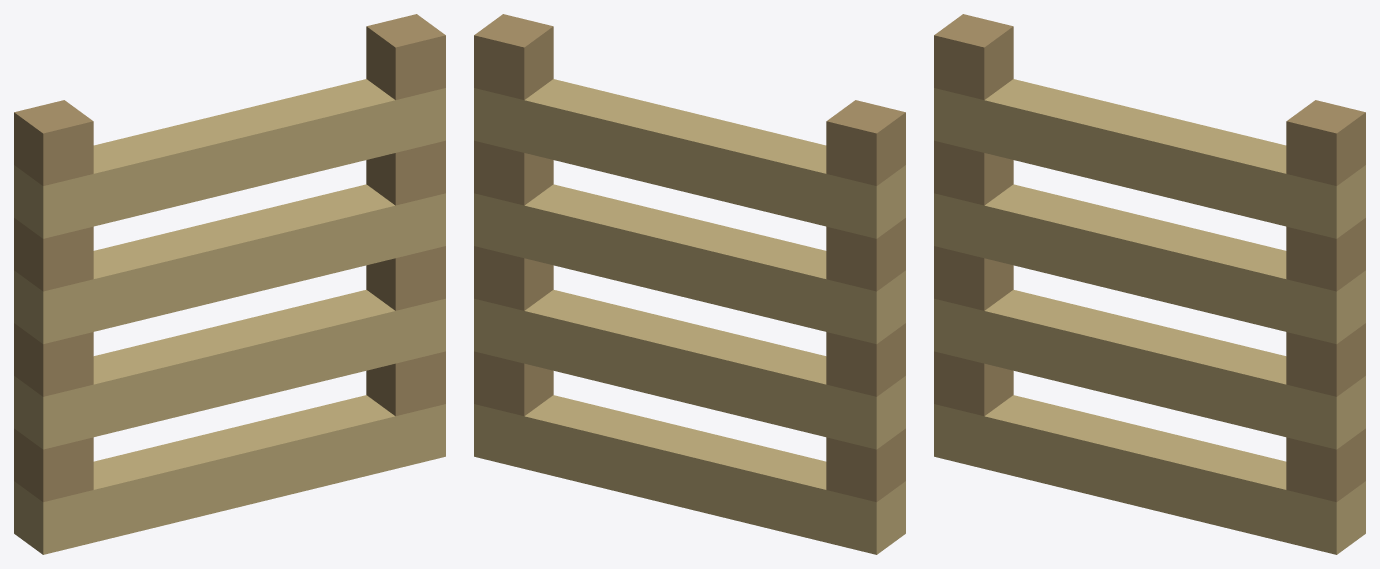
Rendered from Aspen Ladder.glb.
3 views of the same model, side by side, from view 1: azimuth 30°, elevation 25°; view 2: azimuth 150°, elevation 25°; view 3: azimuth 330°, elevation 25° (orthographic).
Visible parts, largest first — view 1: generated(Clone); view 2: generated(Clone); view 3: generated(Clone).
Part boxes in pixels (x1,y1,x2,y2): generated(Clone): (14,14,445,554); generated(Clone): (474,14,905,554); generated(Clone): (934,14,1365,554).
Size of the model in its own units: 0.8 by 0.8 by 0.1.
1 material, 1 textured.
